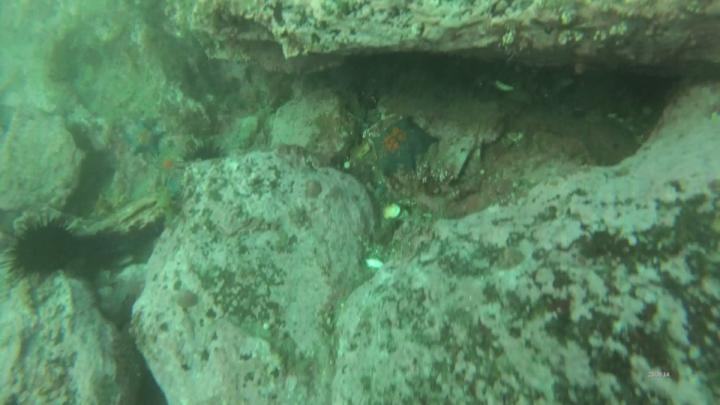echinus: (10, 222, 75, 281)
starfish: (373, 119, 432, 179), (126, 118, 166, 163)
